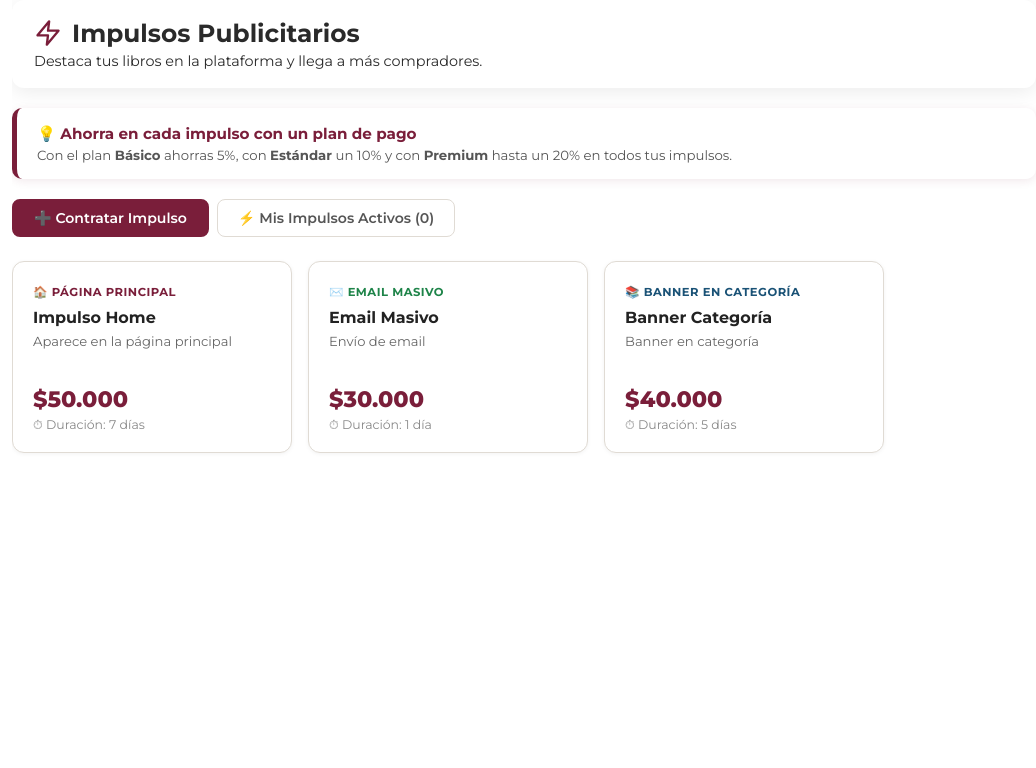
Scenario: SeccionImpulsos — tab Contratar › selects a tipo impulso when clicked
Expected: the heading "Impulso Home" is shown, [33,308,156,327]
Step 1. Click the button "Impulso Home" → click(104, 292), box [12,261,292,453]
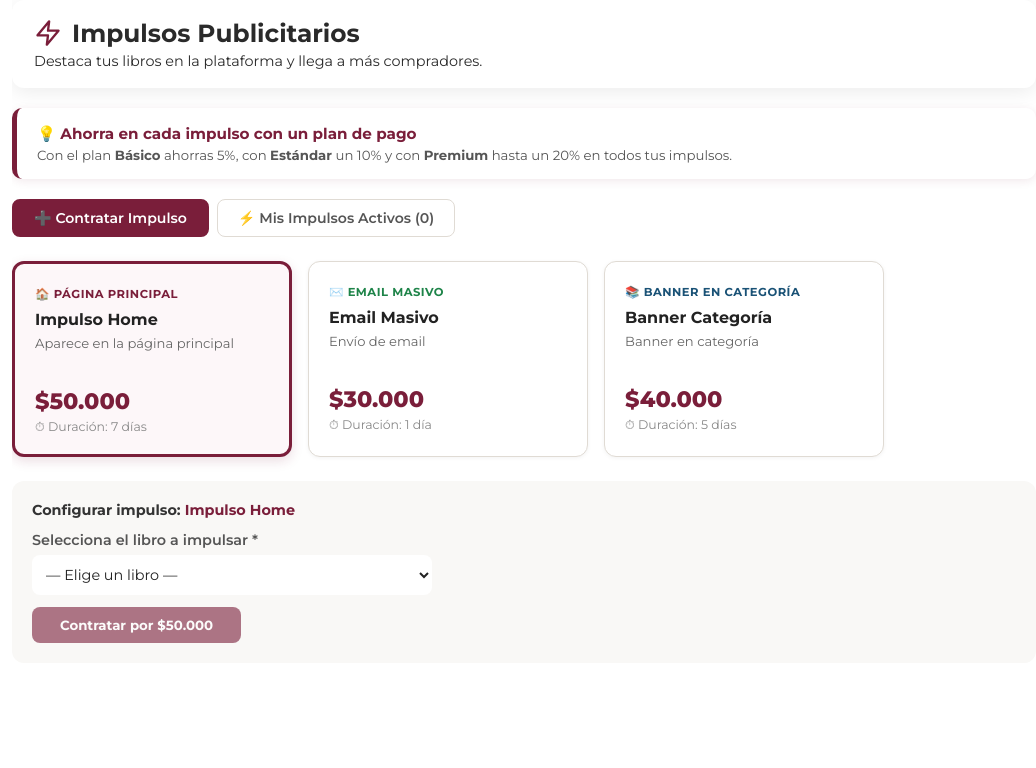
Expected: the heading "Configurar impulso: Impulso Home" is shown, [32,501,295,519]
